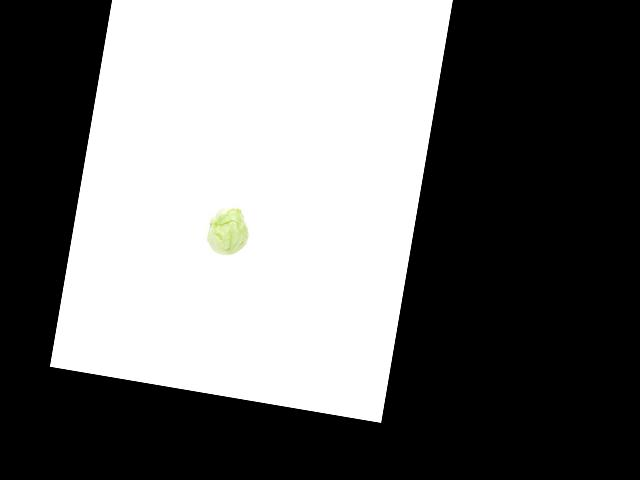lettuce: (204, 199, 257, 263)
